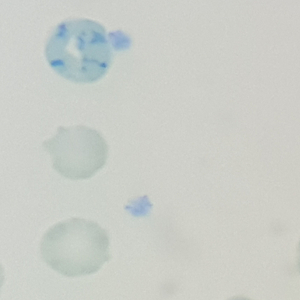aggregate reticulocyte: (43, 17, 116, 86)
erythrocyte: (36, 214, 115, 280), (40, 121, 109, 183)
